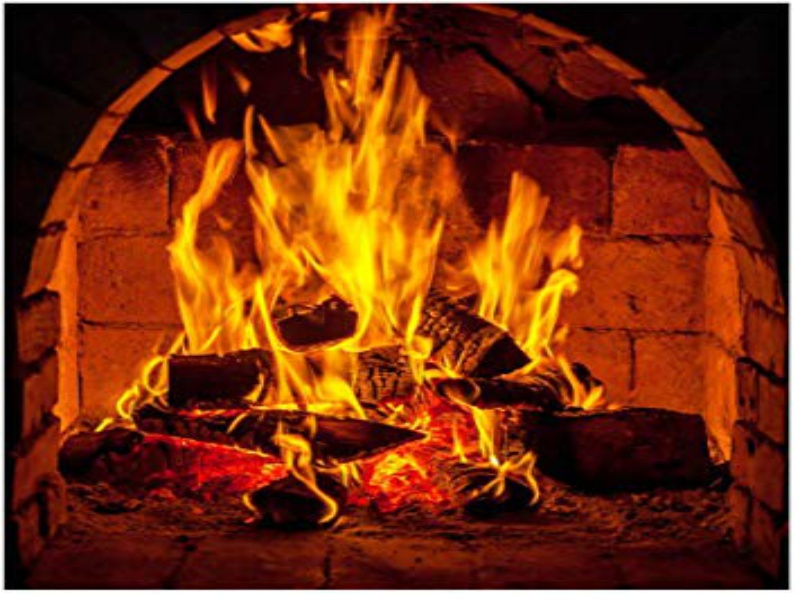fire: (125, 14, 600, 508)
